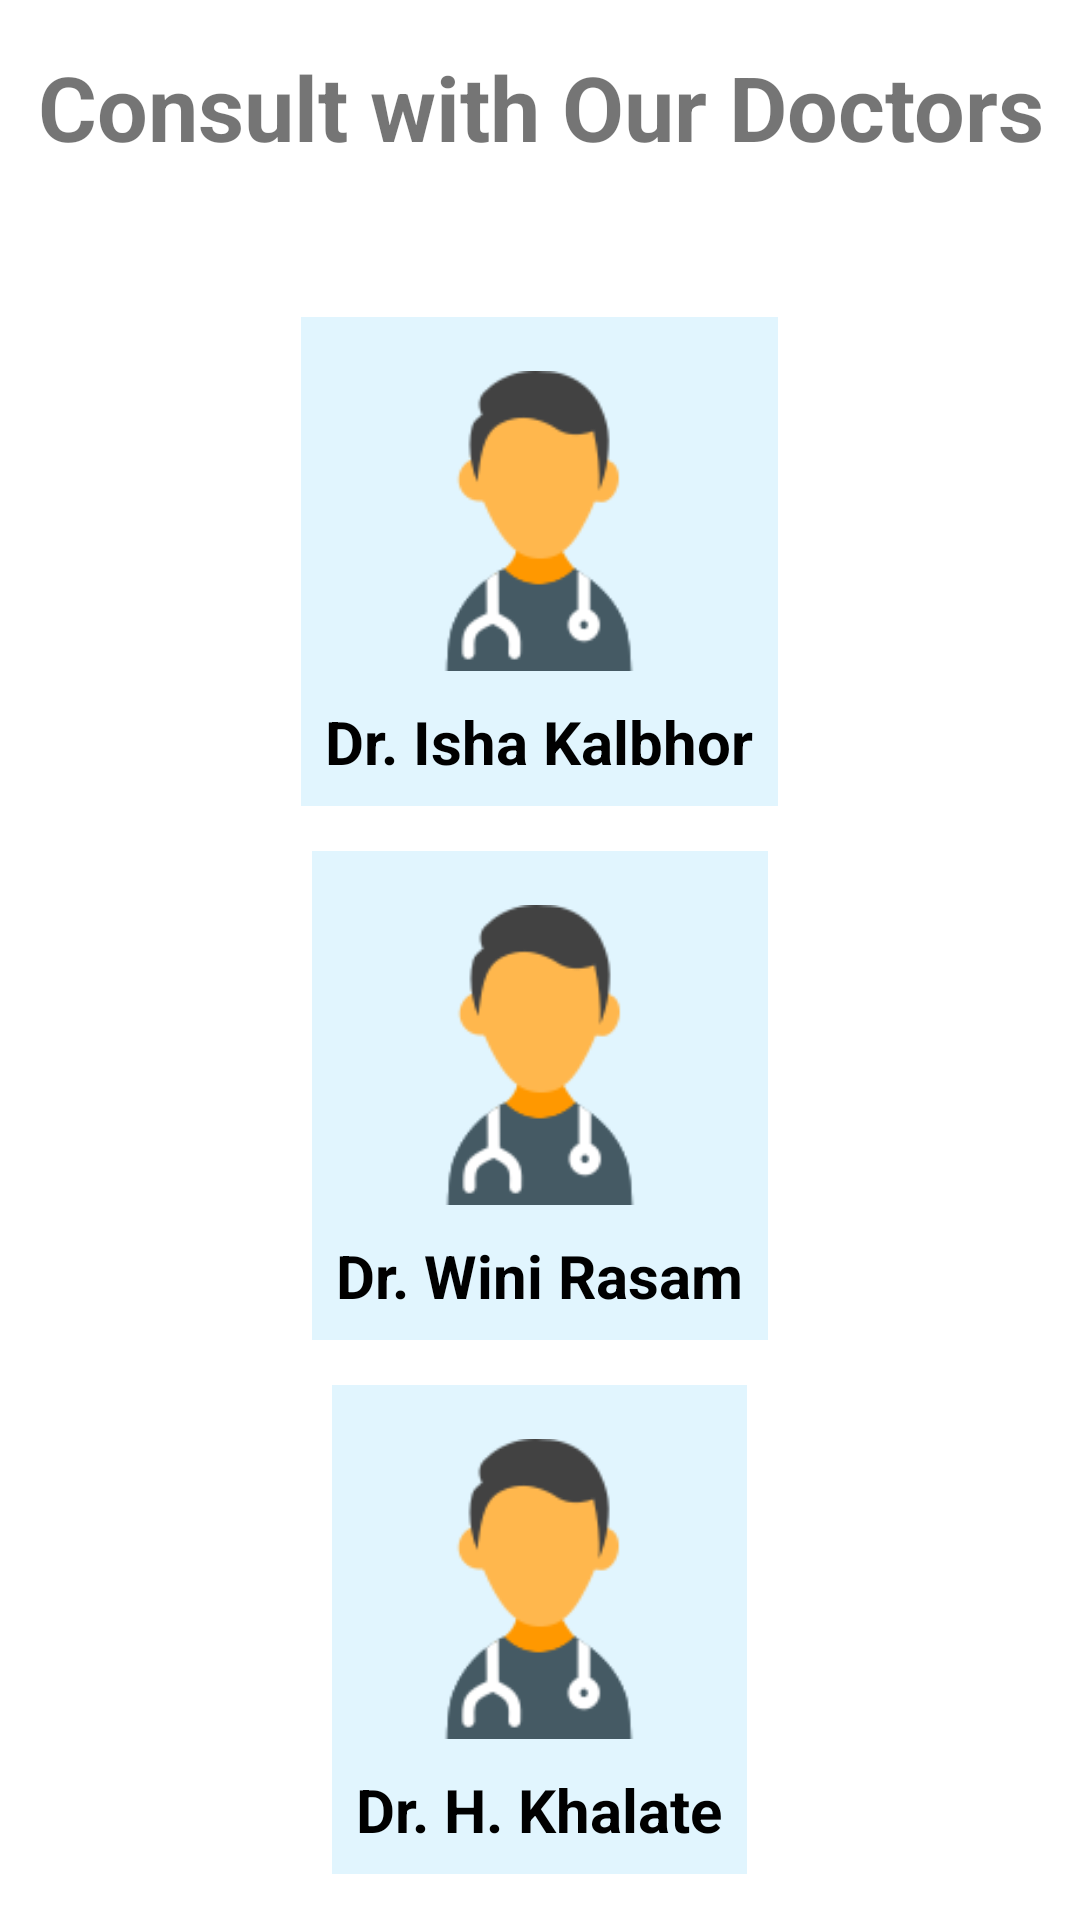

Where icons sit on this 1080×1920 app screen, as (x1, y1, x2, y2):
doc: (445, 371, 633, 671), (446, 905, 634, 1205), (445, 1439, 633, 1739)
